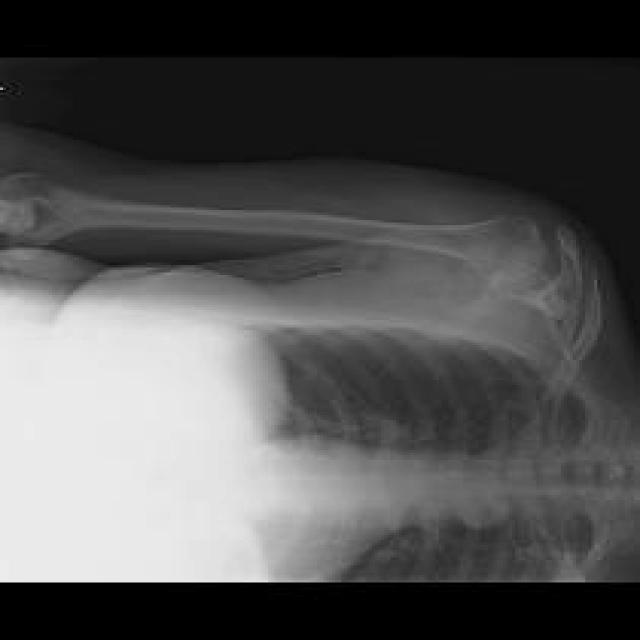normal: (0, 172, 542, 281)
